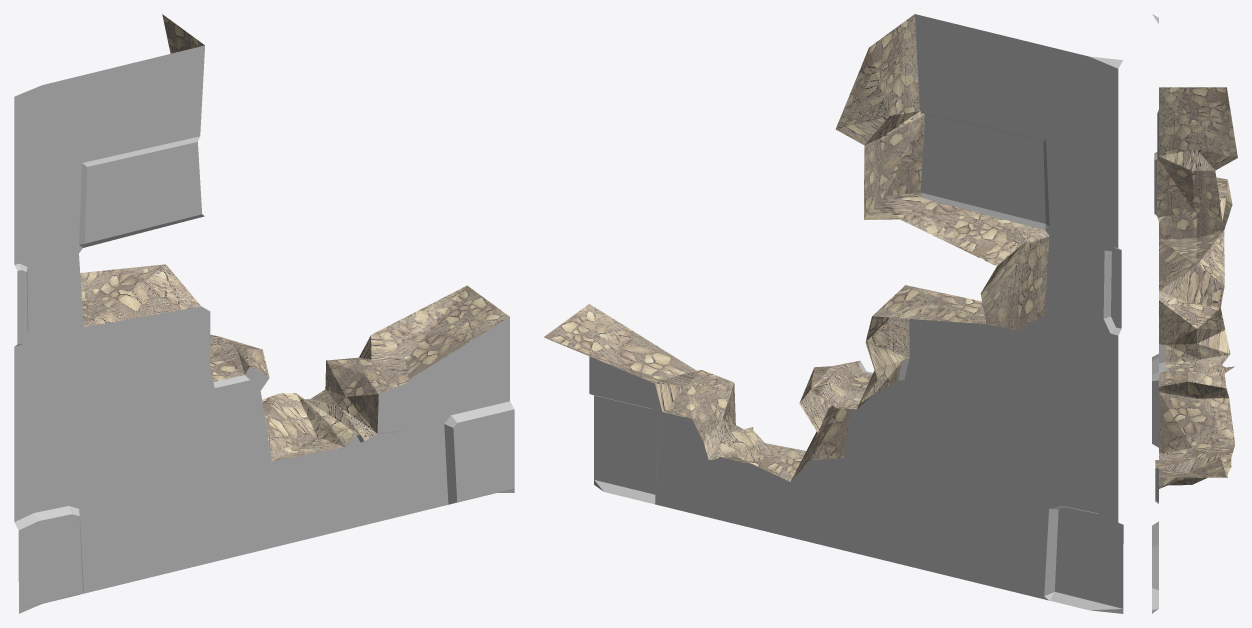
The model's file is SM_Blockout_Ruins_Wall_02.fbx.
The picture shows the model from 3 angles, left to right: view 1: azimuth 30°, elevation 25°; view 2: azimuth 150°, elevation 25°; view 3: azimuth 270°, elevation 25°; orthographic projection. The views are drawn at different scales.
Parts seen in each view (by area): view 1: Wall_Ruins_2.001; view 2: Wall_Ruins_2.001; view 3: Wall_Ruins_2.001.
Boxes of the visible parts, left/top/right/bottom form: Wall_Ruins_2.001: left=14, top=14, right=514, bottom=613; Wall_Ruins_2.001: left=544, top=14, right=1123, bottom=613; Wall_Ruins_2.001: left=1152, top=14, right=1237, bottom=613.
Size of the model in its own units: 200 by 200 by 38.07.
